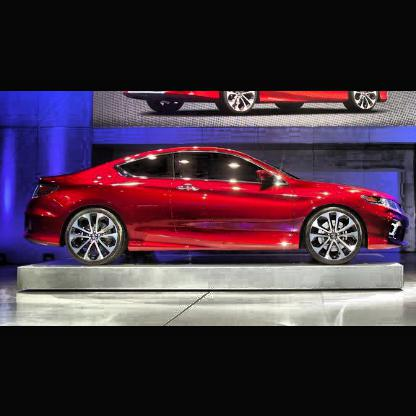Honda Accord Coupe 2012: (24, 146, 408, 265)
